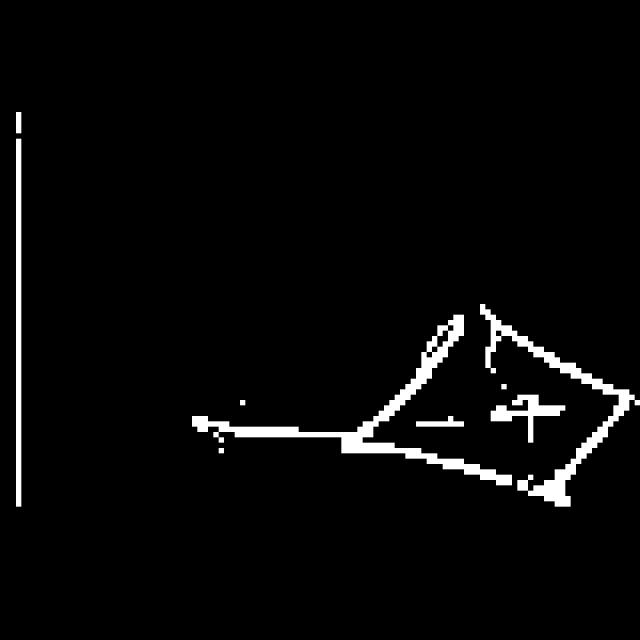dependant_voltage: (341, 278, 640, 518)
